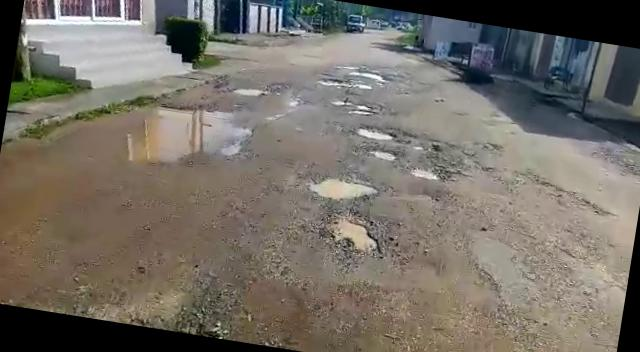pothole: (52, 91, 252, 180), (314, 206, 394, 262), (302, 168, 383, 206), (316, 74, 376, 93), (348, 122, 398, 144), (339, 101, 384, 118), (229, 81, 268, 100), (406, 164, 442, 182), (364, 145, 402, 162)
